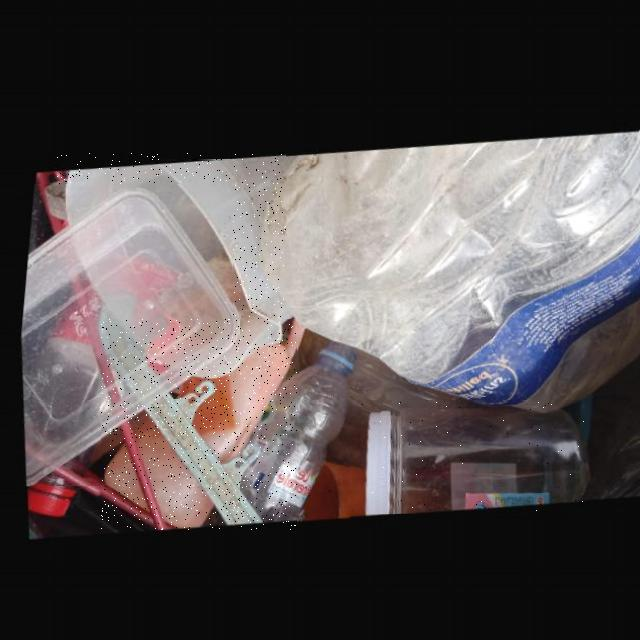glass: (361, 402, 586, 513)
plastic: (252, 125, 640, 406), (16, 184, 233, 486), (58, 153, 286, 377), (102, 319, 297, 530), (236, 343, 350, 522)
